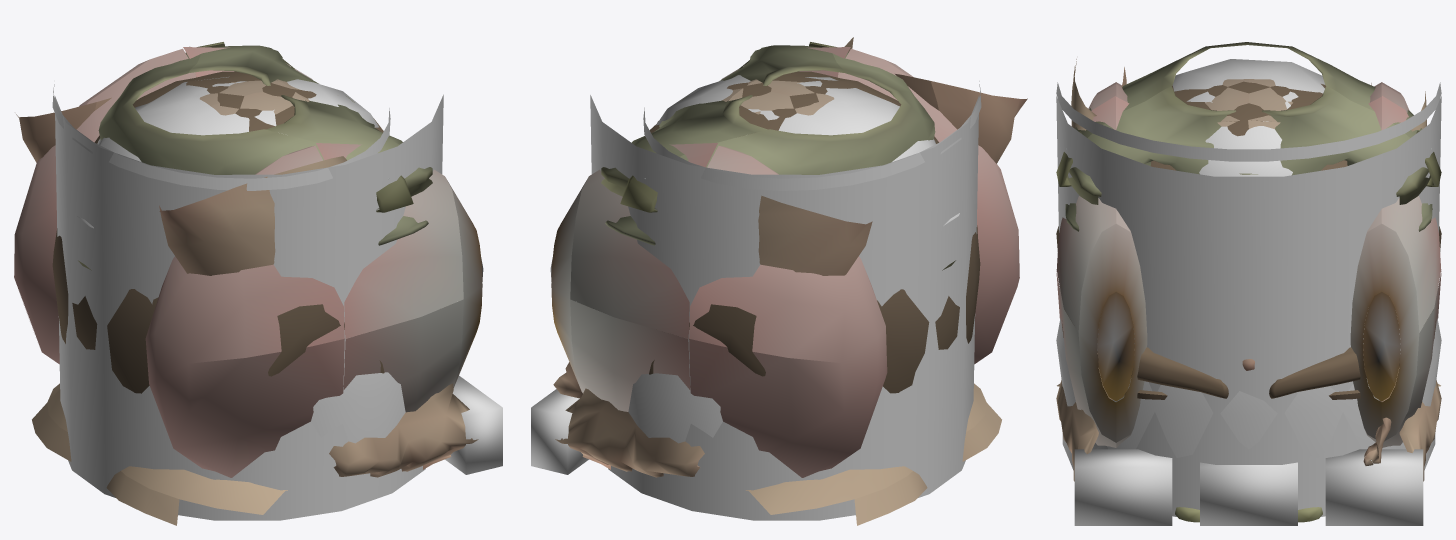
3 renders of one model, left to right at view 1: azimuth 30°, elevation 25°; view 2: azimuth 150°, elevation 25°; view 3: azimuth 270°, elevation 25°, orthographic.
Visible parts, largest first — view 1: tex:eye, team, tex:peasantOlive, tex:hands, tex:hair1, olive, tex:skin, oliveDark; view 2: tex:eye, team, tex:peasantOlive, tex:hands, tex:hair1, olive, tex:skin, oliveDark; view 3: team, tex:eye, oliveDark, tex:peasantOlive, olive, tex:hair1, tex:hands, tex:skin.
Part boxes in pixels (x1=…): tex:eye: x1=14, y1=47, x2=483, y2=477; team: x1=54, y1=94, x2=443, y2=520; tex:peasantOlive: x1=78, y1=42, x2=432, y2=270; tex:hands: x1=16, y1=46, x2=478, y2=477; tex:hair1: x1=52, y1=71, x2=384, y2=393; olive: x1=77, y1=76, x2=405, y2=443; tex:skin: x1=32, y1=79, x2=309, y2=525; oliveDark: x1=52, y1=84, x2=502, y2=474; tex:eye: x1=550, y1=47, x2=1019, y2=477; team: x1=590, y1=95, x2=979, y2=520; tex:peasantOlive: x1=601, y1=42, x2=955, y2=270; tex:hands: x1=553, y1=37, x2=1027, y2=477; tex:hair1: x1=649, y1=71, x2=980, y2=393; olive: x1=602, y1=75, x2=959, y2=443; tex:skin: x1=657, y1=79, x2=1001, y2=525; oliveDark: x1=531, y1=81, x2=981, y2=474; team: x1=1056, y1=96, x2=1441, y2=516; tex:eye: x1=1056, y1=82, x2=1441, y2=447; oliveDark: x1=1056, y1=82, x2=1441, y2=525; tex:peasantOlive: x1=1056, y1=42, x2=1441, y2=522; olive: x1=1056, y1=59, x2=1441, y2=457; tex:hair1: x1=1056, y1=81, x2=1441, y2=399; tex:hands: x1=1056, y1=59, x2=1441, y2=481; tex:skin: x1=1057, y1=79, x2=1440, y2=386.
Size of the model in its own units: 65535 by 65535 by 65535.
